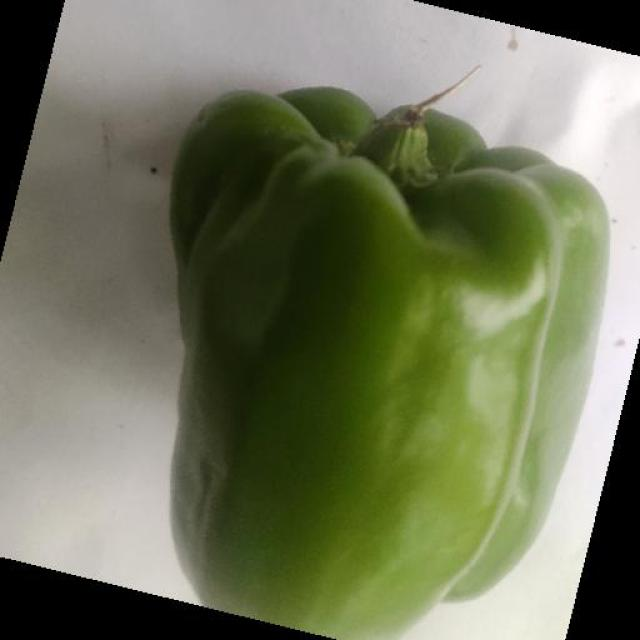Fresh_Capsicum: (161, 77, 594, 627)
